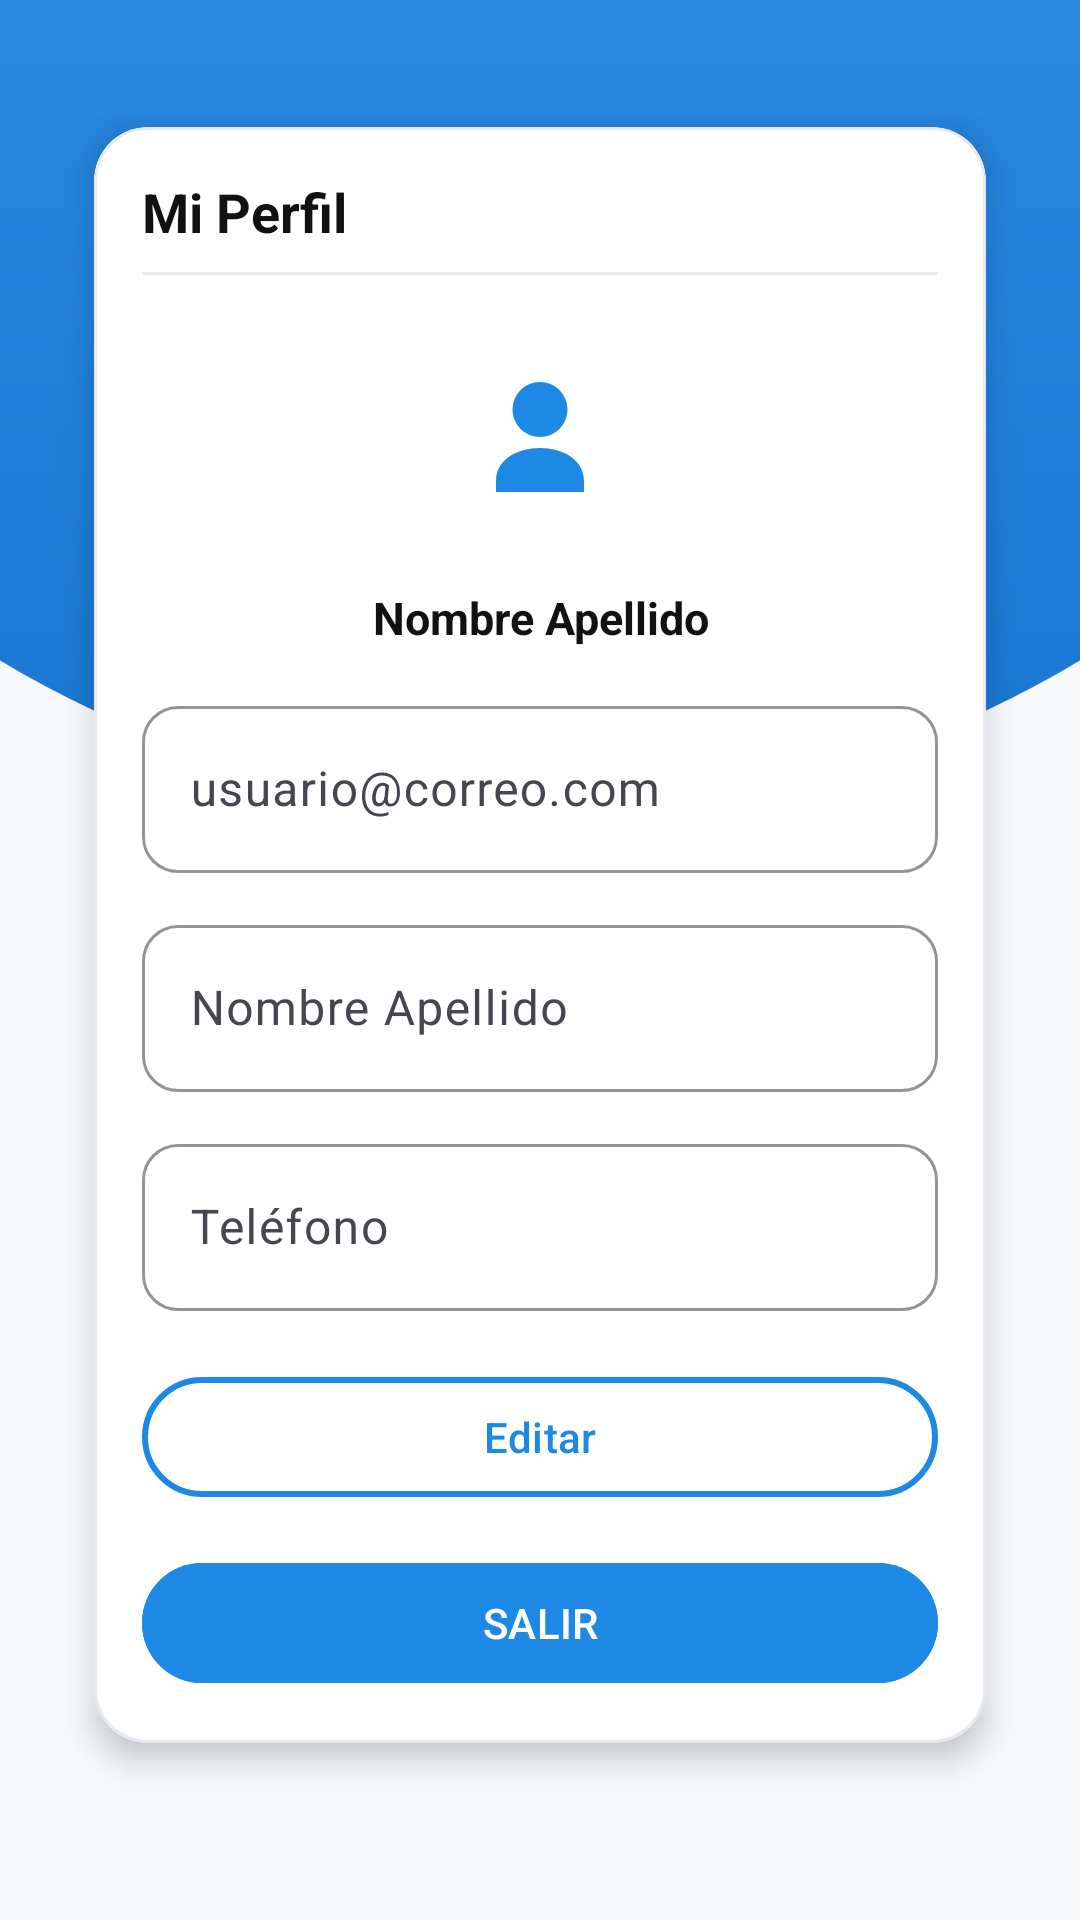

Where icons sit on this 1080x1920 app screen, as (x1, y1, x2, y2):
Avatar del usuario: (496, 382, 584, 492)
